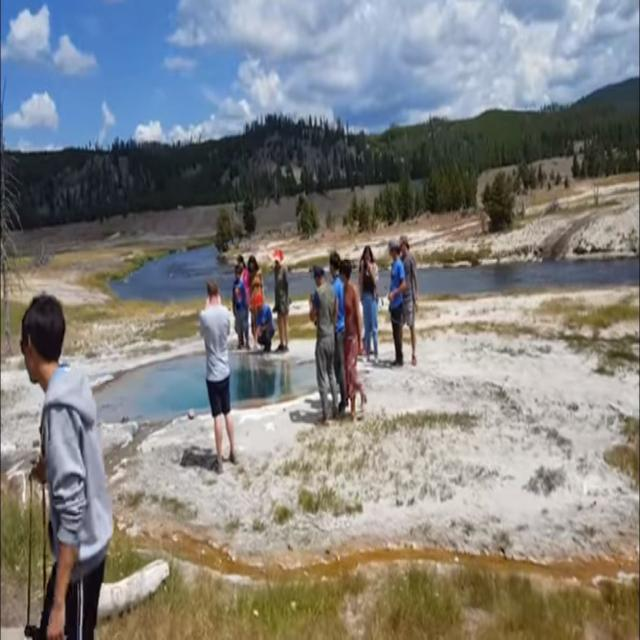body: (18, 288, 118, 639), (245, 341, 402, 429), (198, 274, 241, 476), (307, 262, 340, 426), (337, 256, 368, 422), (325, 247, 350, 416), (386, 236, 408, 366), (399, 234, 419, 366), (359, 244, 379, 365), (179, 435, 224, 474), (274, 254, 290, 352), (252, 292, 276, 353), (248, 255, 263, 338), (232, 267, 246, 350), (236, 254, 250, 308)
